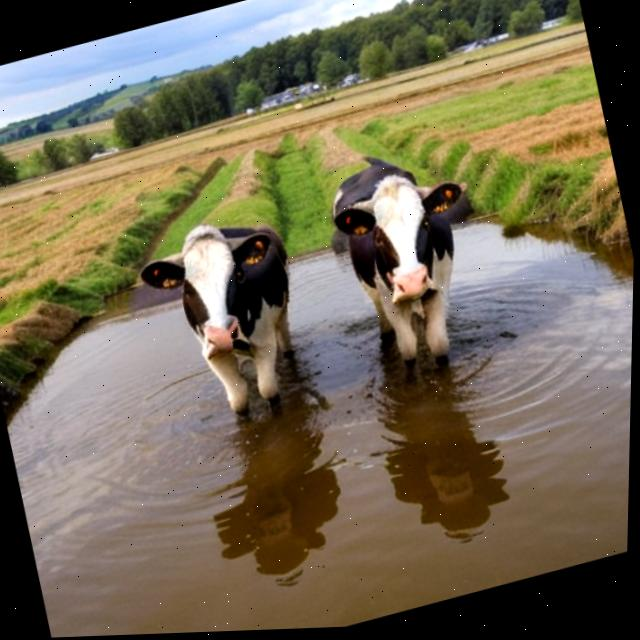cow: (131, 197, 341, 445), (314, 135, 504, 400)
